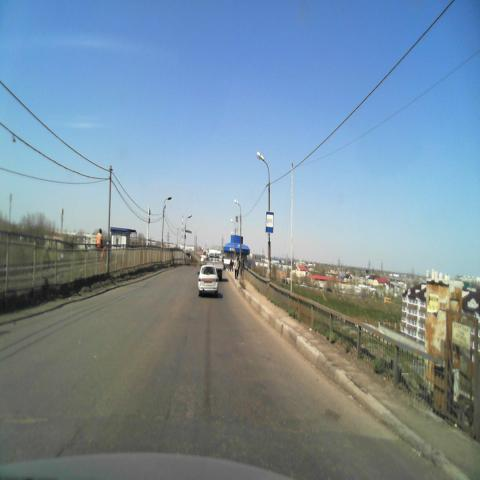7_12: (265, 211, 274, 233)
